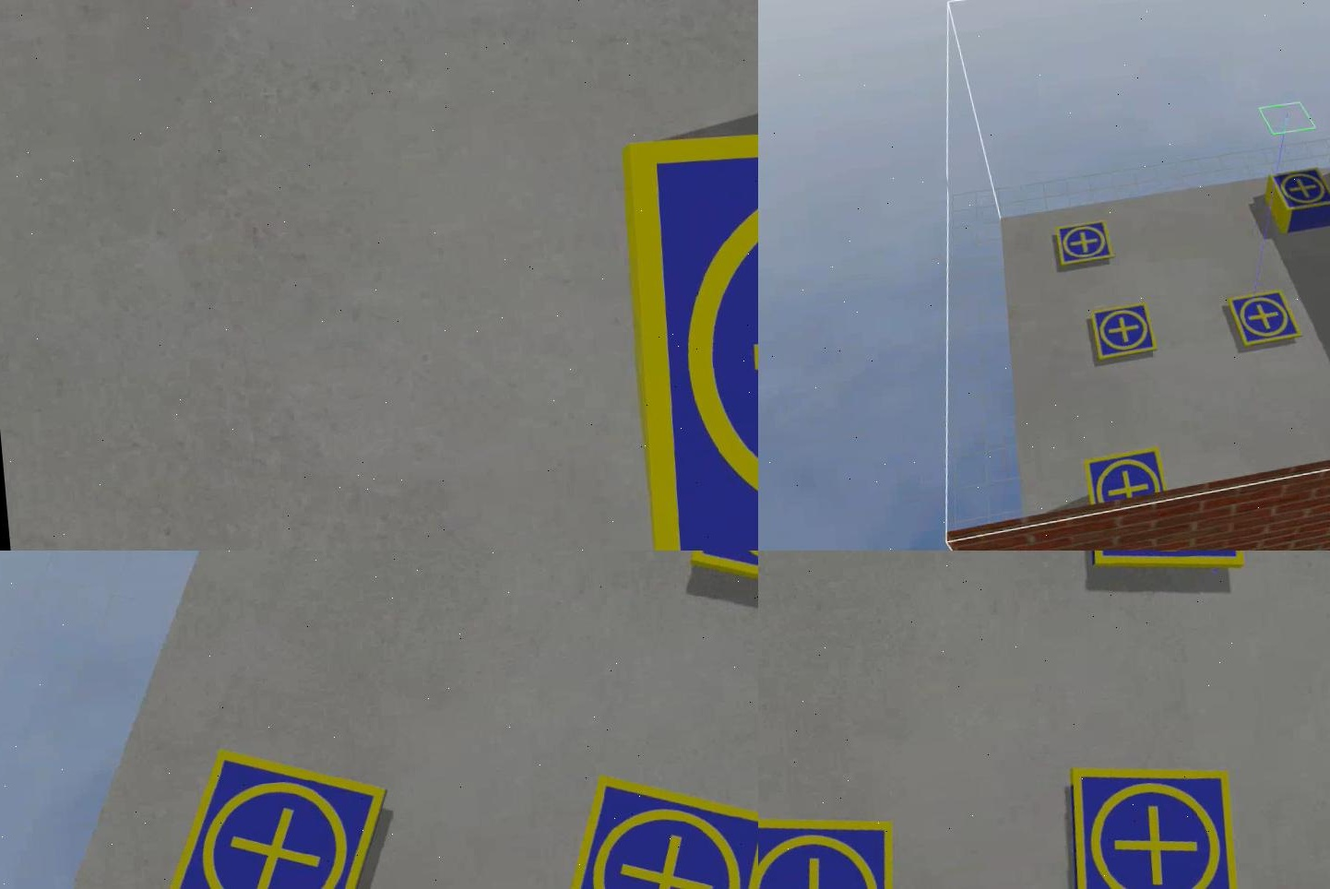small_base: (619, 99, 756, 551), (142, 739, 400, 889), (542, 762, 756, 889), (1059, 754, 1246, 889), (756, 805, 907, 889), (1076, 551, 1246, 583), (1082, 447, 1164, 505), (1226, 290, 1300, 350), (1087, 304, 1155, 362), (1050, 219, 1113, 267), (1266, 167, 1328, 212)
